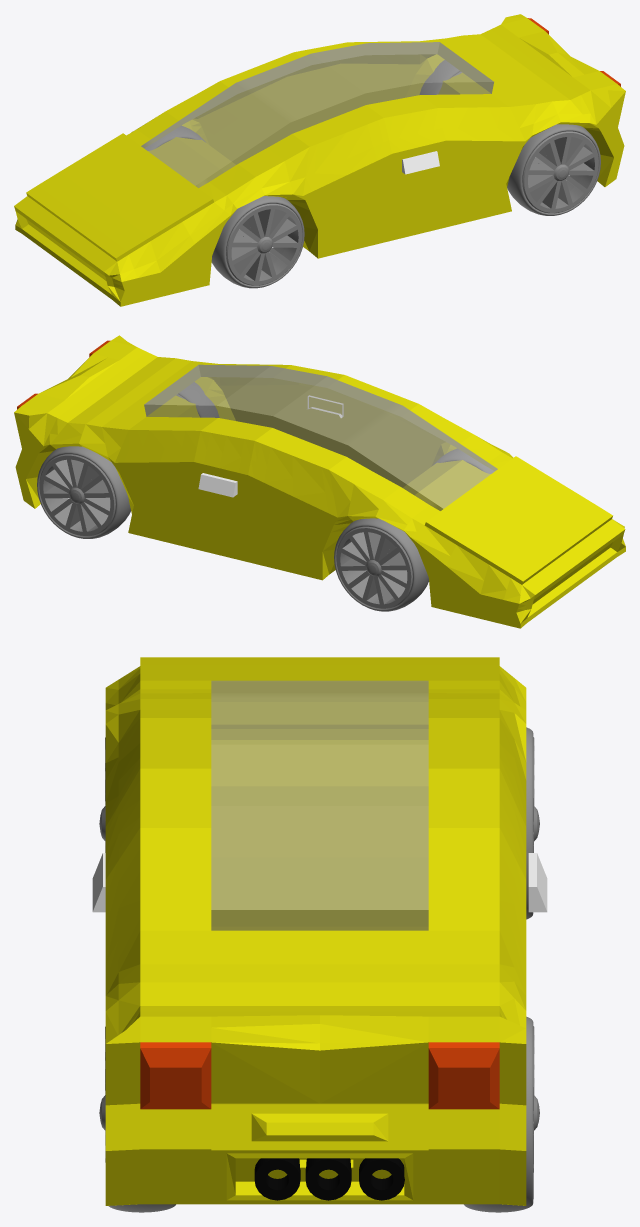
File: Car_Model_ZB_2015.fbx
3 renders of one model, top to bottom at view 1: azimuth 30°, elevation 25°; view 2: azimuth 150°, elevation 25°; view 3: azimuth 270°, elevation 25°, orthographic. The views are drawn at different scales.
Visible parts, largest first — view 1: polySurface75, polySurface76, polySurface54, polySurface55, polySurface53, polySurface58, polySurface52; view 2: polySurface75, polySurface76, polySurface52, polySurface53, polySurface54, polySurface59, polySurface55; view 3: polySurface75, polySurface76, polySurface73, polySurface70, pPipe4, polySurface53, polySurface52, polySurface59.
Part boxes in pixels (<box>): polySurface75: <box>14,14,625,306</box>; polySurface76: <box>141,42,493,187</box>; polySurface54: <box>507,124,600,215</box>; polySurface55: <box>211,196,304,288</box>; polySurface53: <box>420,60,461,94</box>; polySurface58: <box>402,151,439,174</box>; polySurface52: <box>144,126,204,150</box>; polySurface75: <box>14,335,625,628</box>; polySurface76: <box>144,364,497,510</box>; polySurface52: <box>334,518,428,611</box>; polySurface53: <box>37,446,130,538</box>; polySurface54: <box>176,382,219,417</box>; polySurface59: <box>198,473,237,497</box>; polySurface55: <box>434,448,494,473</box>; polySurface75: <box>105,657,526,1205</box>; polySurface76: <box>211,680,428,930</box>; polySurface73: <box>140,1042,211,1109</box>; polySurface70: <box>428,1042,499,1109</box>; pPipe4: <box>254,1158,404,1200</box>; polySurface53: <box>464,1016,539,1212</box>; polySurface52: <box>526,727,539,919</box>; polySurface59: <box>528,853,547,912</box>.
Size of what is drawn, in the model's own units: 17.66 by 4.76 by 6.69.
